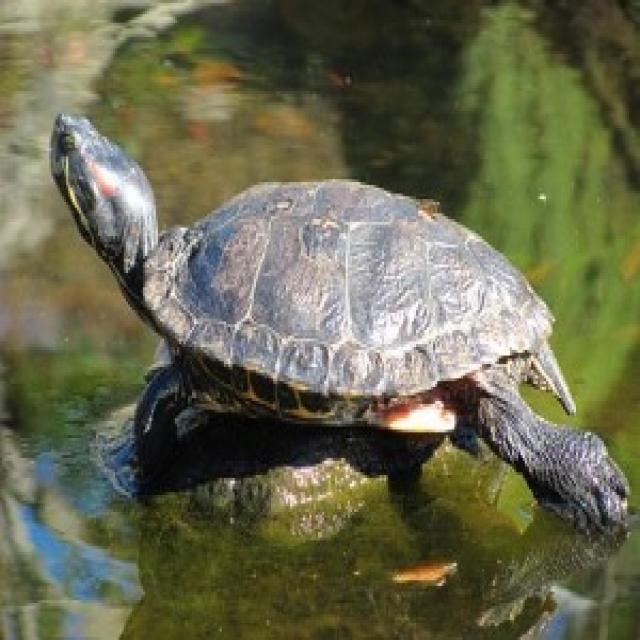Sea turtle: (29, 107, 623, 517)
